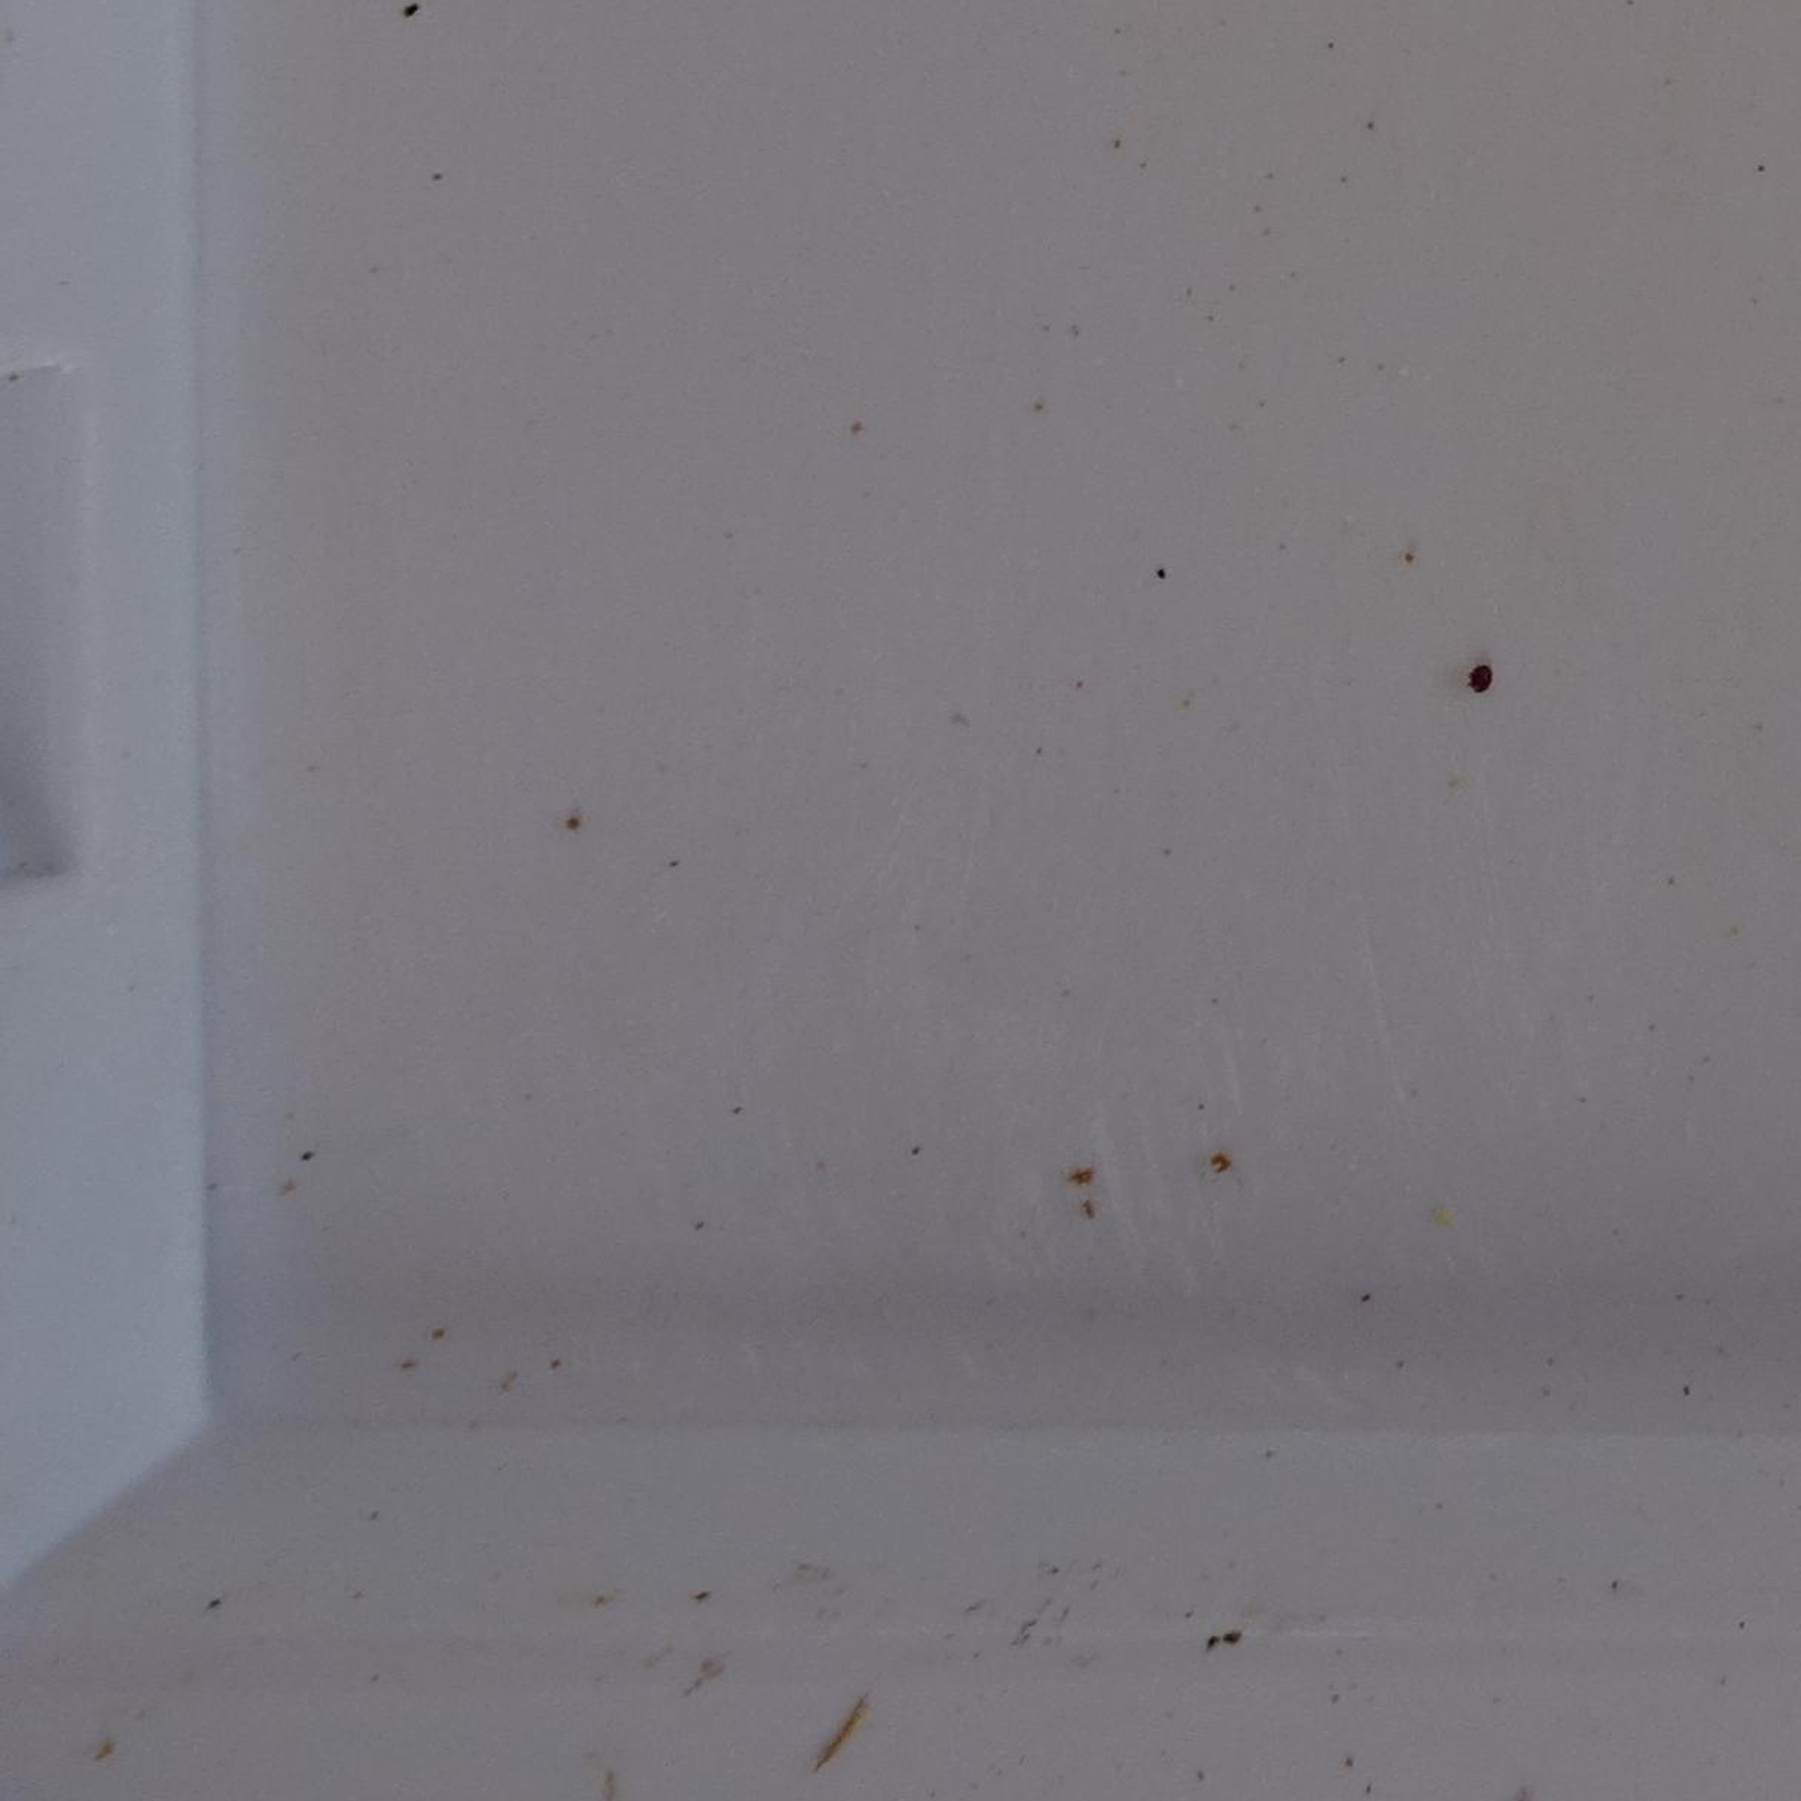Varroa: (1468, 665, 1494, 691)
